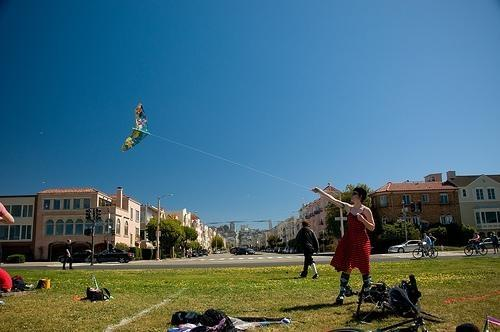bicycle: (345, 276, 443, 326), (463, 240, 487, 256), (412, 246, 438, 260)
car: (88, 248, 135, 264), (58, 249, 92, 264), (388, 238, 422, 252), (233, 247, 255, 254), (192, 250, 198, 257)
